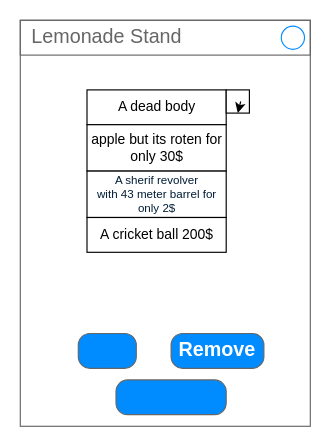
Image size: 331x447. Some labels were removed from this diagram. Each missing label, with the box of its shape:
Add: (77, 332, 136, 368)
Check out: (115, 379, 226, 415)
